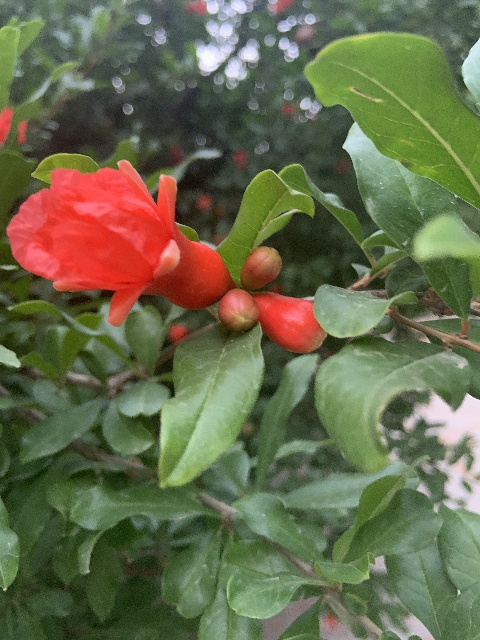bud: (255, 291, 326, 354), (240, 245, 282, 291), (218, 290, 257, 332)
flower: (6, 158, 233, 326)
